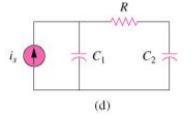Capacitor: (68, 44, 88, 66)
